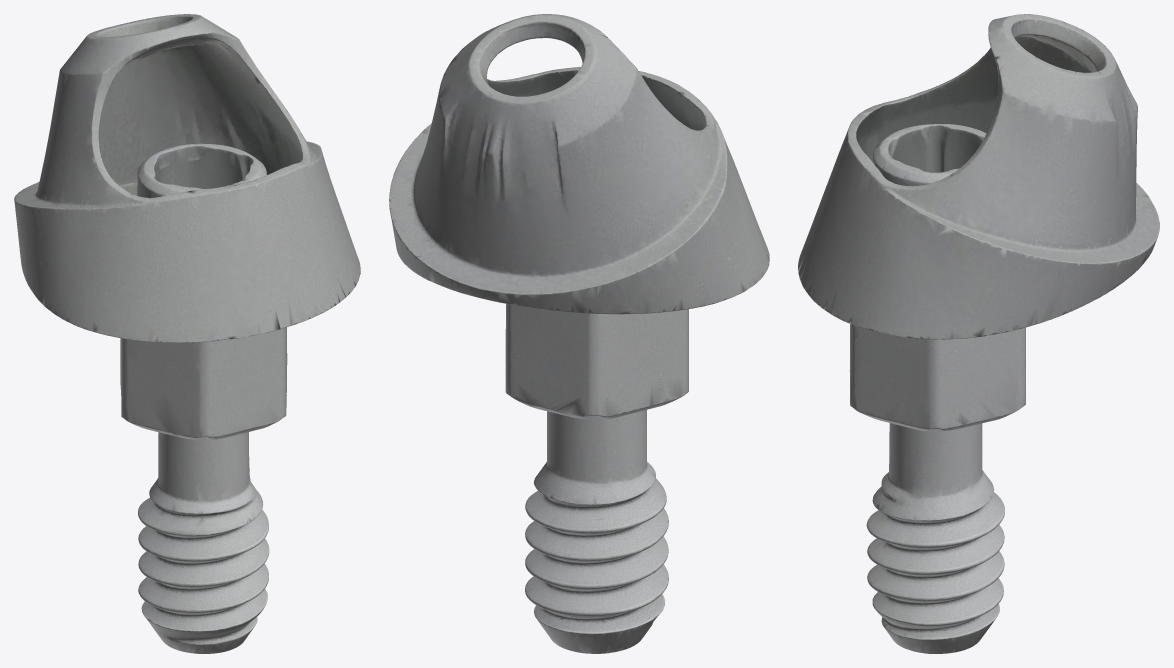
Rendered from mini-pilar-angulado-fast.glb.
The picture shows the model from 3 angles, left to right: view 1: azimuth 30°, elevation 25°; view 2: azimuth 150°, elevation 25°; view 3: azimuth 270°, elevation 25°; orthographic projection. The views are drawn at different scales.
Visible parts, largest first — view 1: mesh_node; view 2: mesh_node; view 3: mesh_node.
Part boxes in pixels (<box>): mesh_node: <box>14,14,360,653</box>; mesh_node: <box>389,14,769,653</box>; mesh_node: <box>798,14,1159,653</box>.
Bounding box in the file's own units: 0.9978 × 1.9 × 1.02.
1 material, 1 textured.
